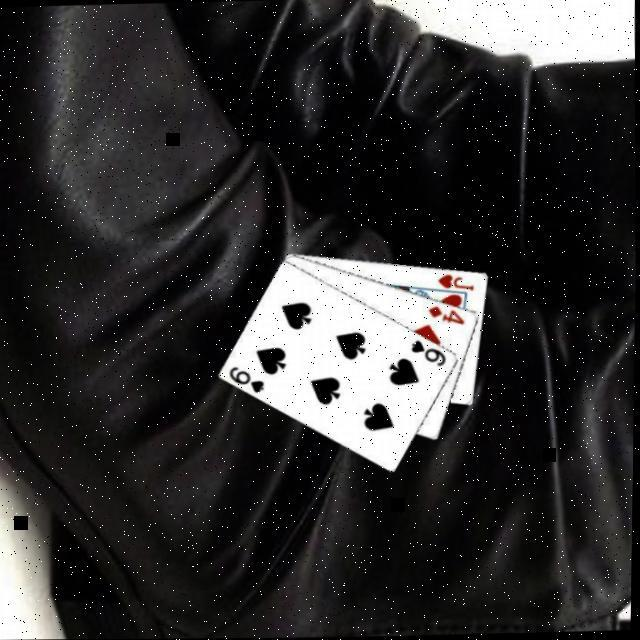4D: (428, 300, 470, 326)
6S: (410, 335, 451, 368), (229, 360, 270, 393)
JH: (437, 269, 479, 292)
